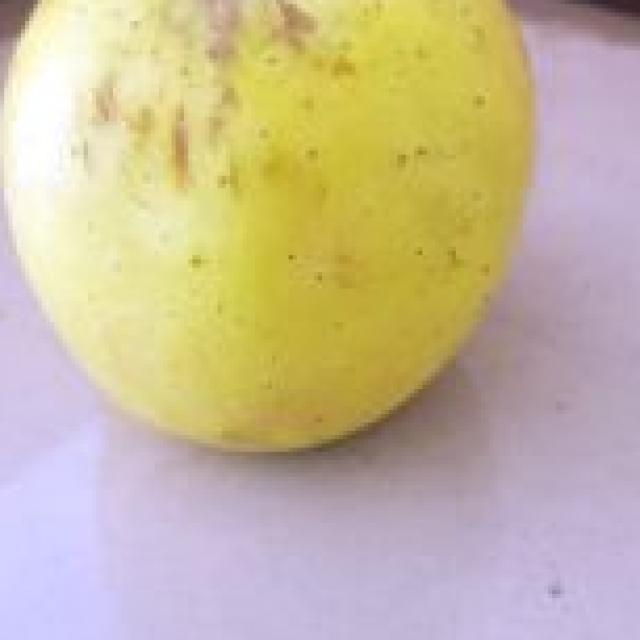Good_Apple 10-21 days: (0, 0, 533, 451)
